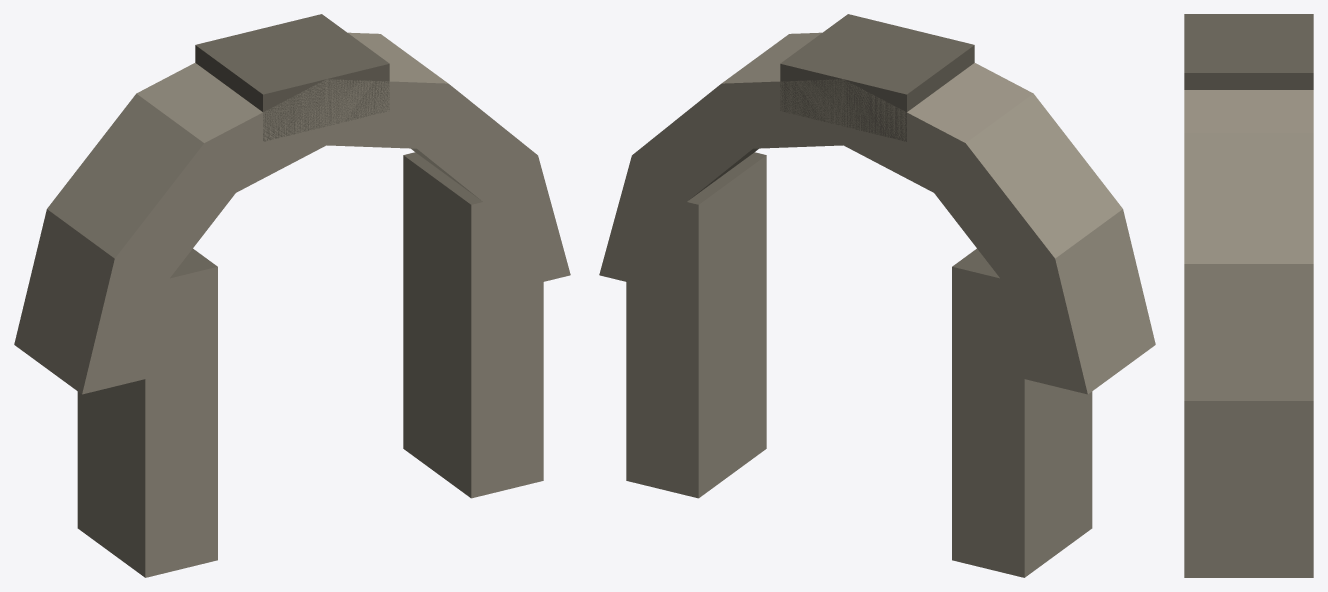
Rendered from terr_arch.glb.
The picture shows the model from 3 angles, left to right: view 1: azimuth 30°, elevation 25°; view 2: azimuth 150°, elevation 25°; view 3: azimuth 270°, elevation 25°; orthographic projection. The views are drawn at different scales.
Parts seen in each view (by area): view 1: terr_arch; view 2: terr_arch; view 3: terr_arch.
Part boxes in pixels (x1,y1,x2,y2): terr_arch: (14, 14, 570, 577); terr_arch: (599, 14, 1155, 577); terr_arch: (1184, 14, 1313, 577).
Size of the model in its own units: 1.08 by 0.96 by 0.26.
Materials: 1 (1 with a texture image).
